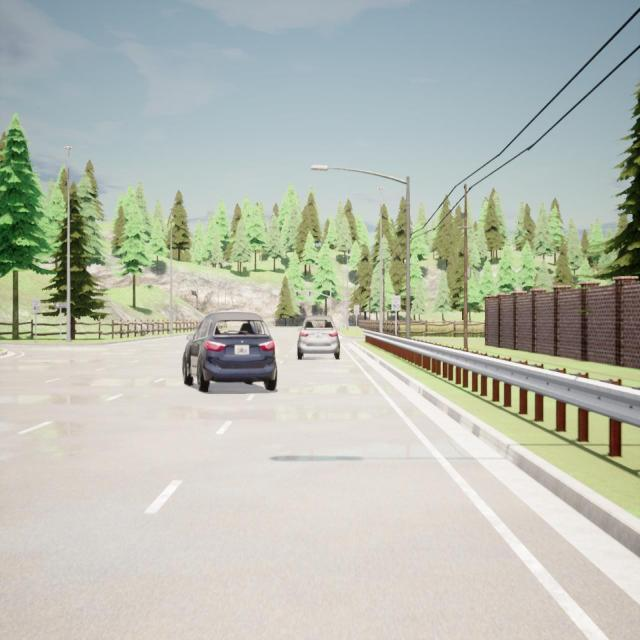Traffic_Signs: (392, 296, 401, 310), (32, 299, 40, 313), (55, 302, 67, 308), (354, 305, 359, 315)
Vehicle: (182, 312, 277, 391), (296, 315, 341, 362)
